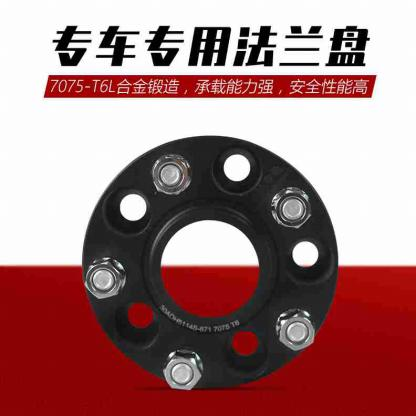FOD: (77, 132, 345, 392)
